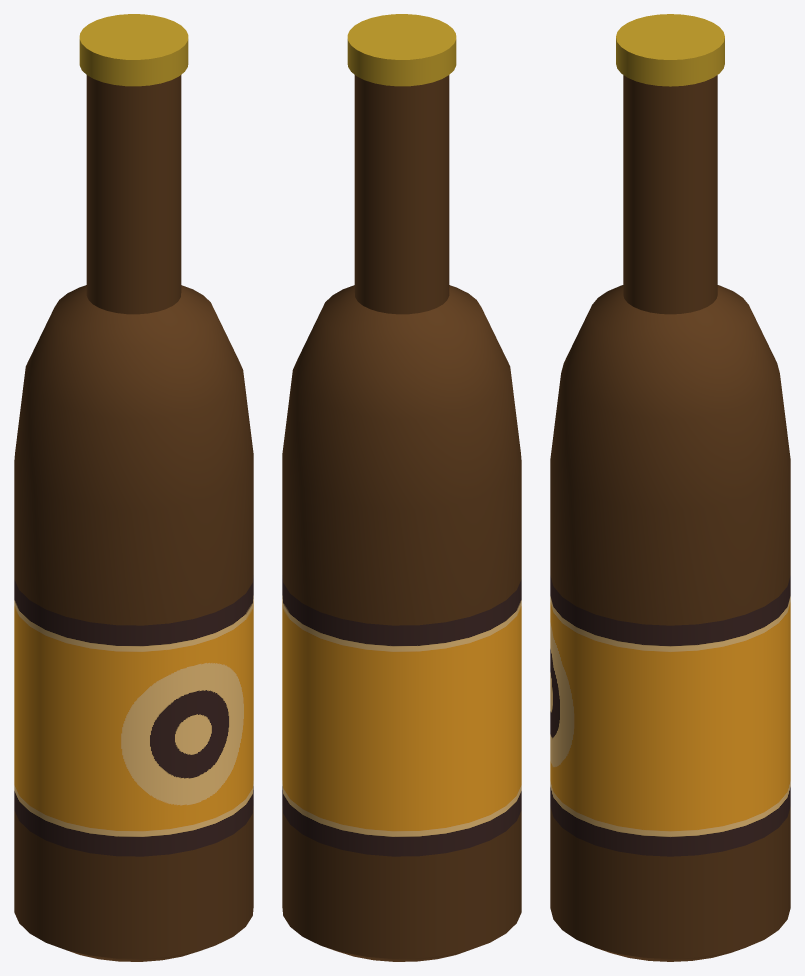
File: Beer.fbx
3 renders of one model, left to right at view 1: azimuth 30°, elevation 25°; view 2: azimuth 150°, elevation 25°; view 3: azimuth 270°, elevation 25°, orthographic.
Visible parts, largest first — view 1: Beer; view 2: Beer; view 3: Beer.
Part boxes in pixels (x1,y1,x2,y2): Beer: [14, 14, 253, 961]; Beer: [282, 14, 521, 961]; Beer: [550, 14, 790, 961].
Bounding box in the file's own units: 0.066 × 0.268 × 0.066.
Materials: 3 (1 with a texture image).
